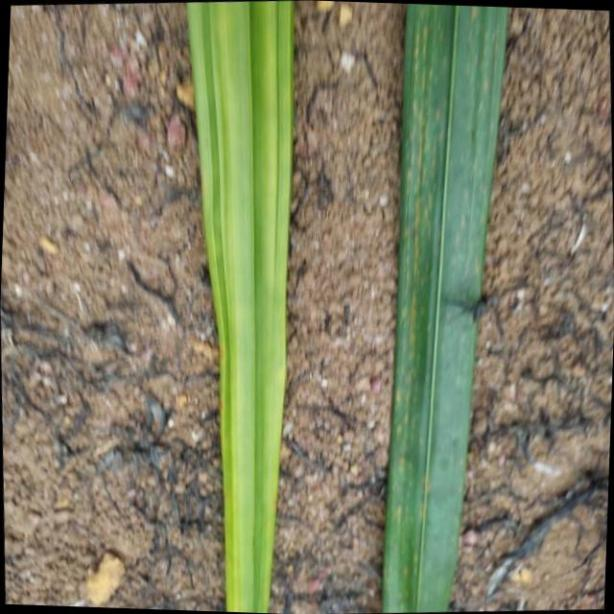nitrogen: (189, 0, 294, 614)
